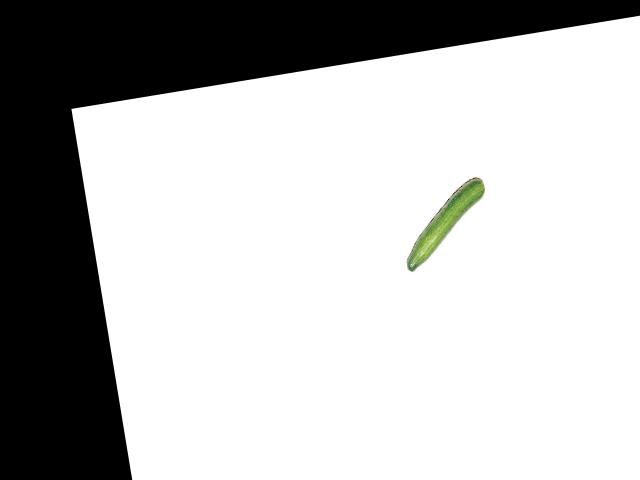cucumber: (394, 176, 496, 272)
